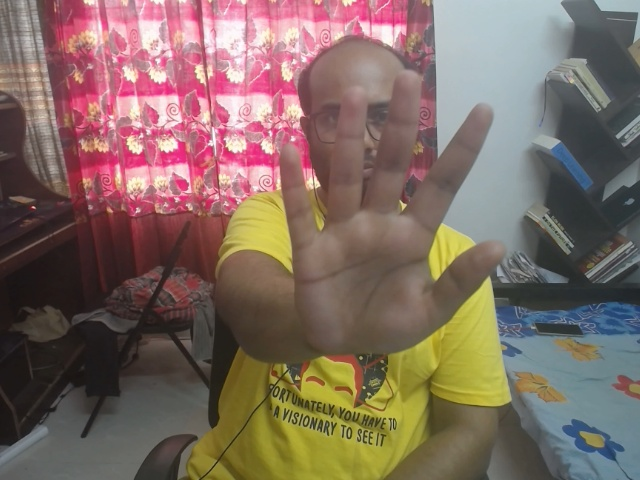five: (262, 62, 521, 373)
